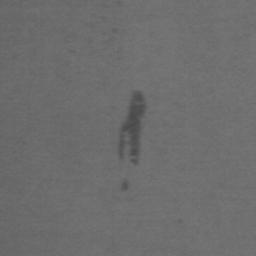Iron scale compression: (118, 90, 146, 166), (121, 177, 129, 192)
